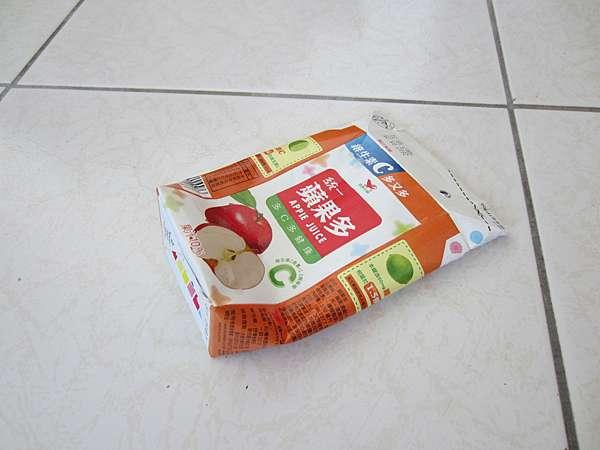cardboard: (146, 112, 508, 355)
